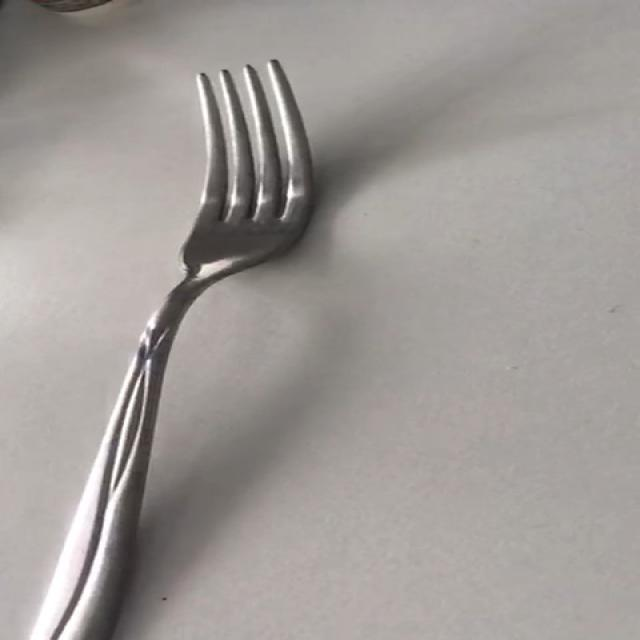spoon: (31, 60, 311, 640)
